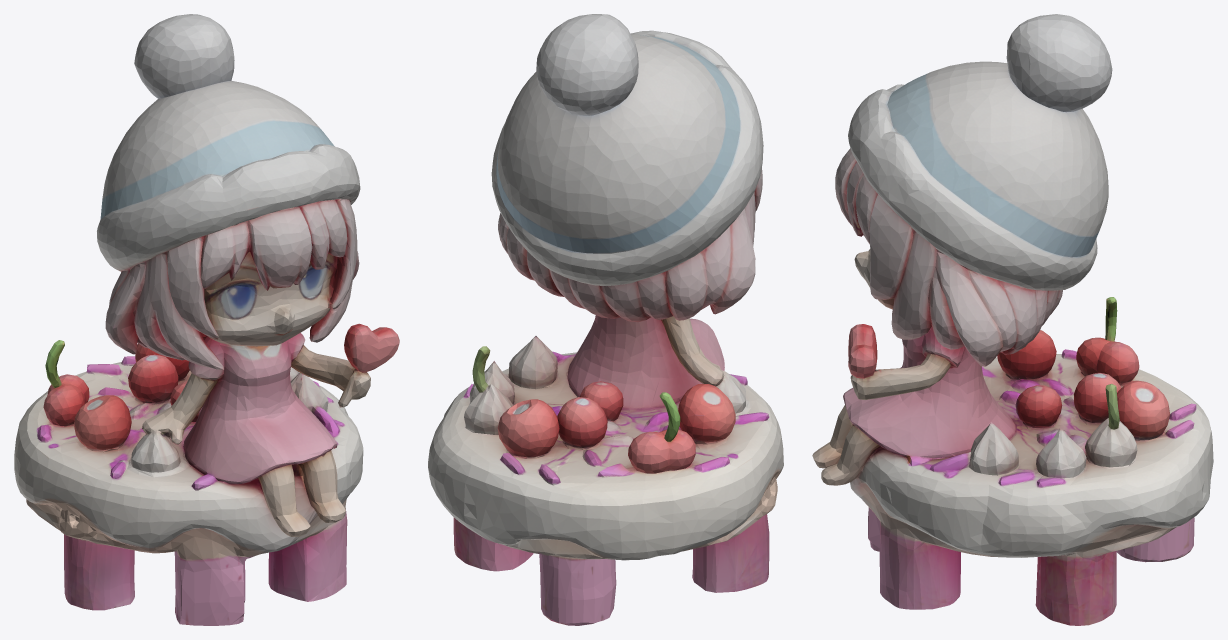
The model's file is edit.glb.
3 views of the same model, side by side, from view 1: azimuth 30°, elevation 25°; view 2: azimuth 150°, elevation 25°; view 3: azimuth 270°, elevation 25° (orthographic). The views are drawn at different scales.
Visible parts, largest first — view 1: world; view 2: world; view 3: world.
Boxes of the visible parts, <box> form: world: <box>14,14,399,625</box>; world: <box>428,14,783,625</box>; world: <box>812,14,1213,625</box>.
Size of the model in its own units: 0.5931 by 0.9965 by 0.664.
Materials: 1 (1 with a texture image).
